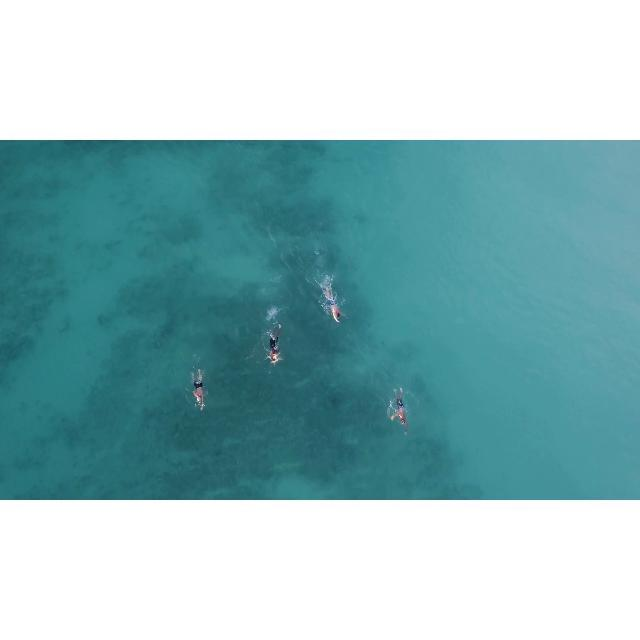human: (391, 387, 409, 436), (327, 287, 348, 324), (190, 369, 206, 413), (266, 325, 282, 366)
